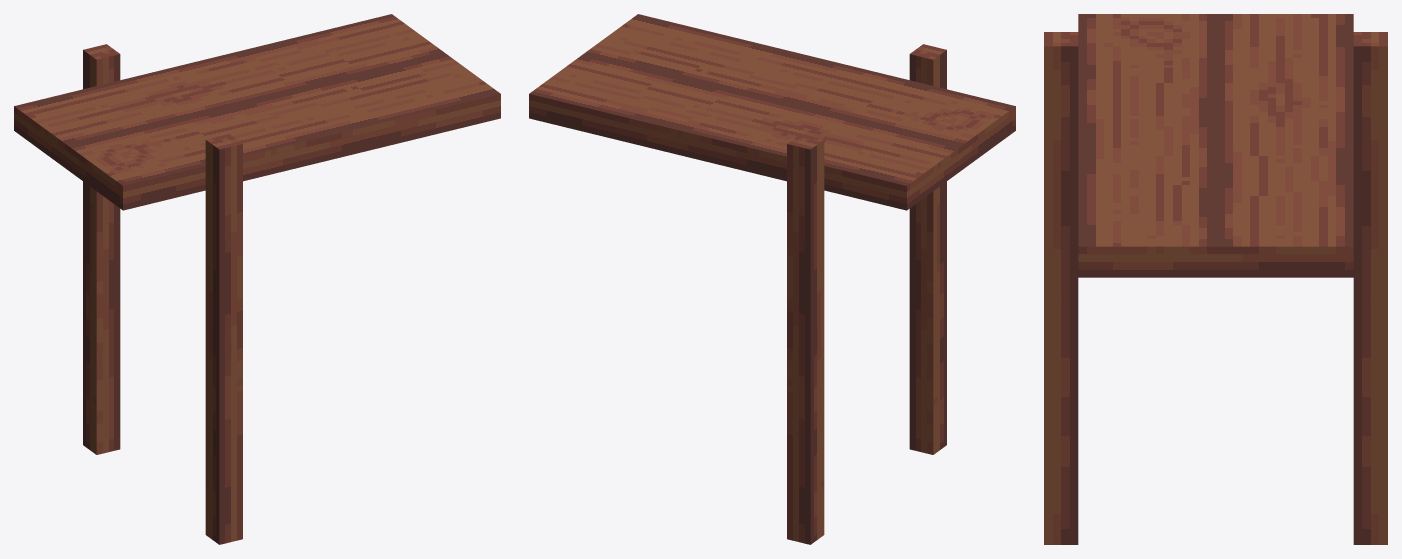
File: bridge.fbx
3 renders of one model, left to right at view 1: azimuth 30°, elevation 25°; view 2: azimuth 150°, elevation 25°; view 3: azimuth 270°, elevation 25°, orthographic. The views are drawn at different scales.
Visible parts, largest first — view 1: Cube, Cube.001; view 2: Cube, Cube.001; view 3: Cube, Cube.001.
Boxes of the visible parts, x1,y1,x2,y2 form: Cube: (14, 14, 500, 210); Cube.001: (83, 44, 242, 544); Cube: (529, 14, 1015, 210); Cube.001: (787, 44, 946, 544); Cube: (1078, 14, 1353, 277); Cube.001: (1044, 32, 1387, 544).
Size of the model in its own units: 8 by 8 by 5.
